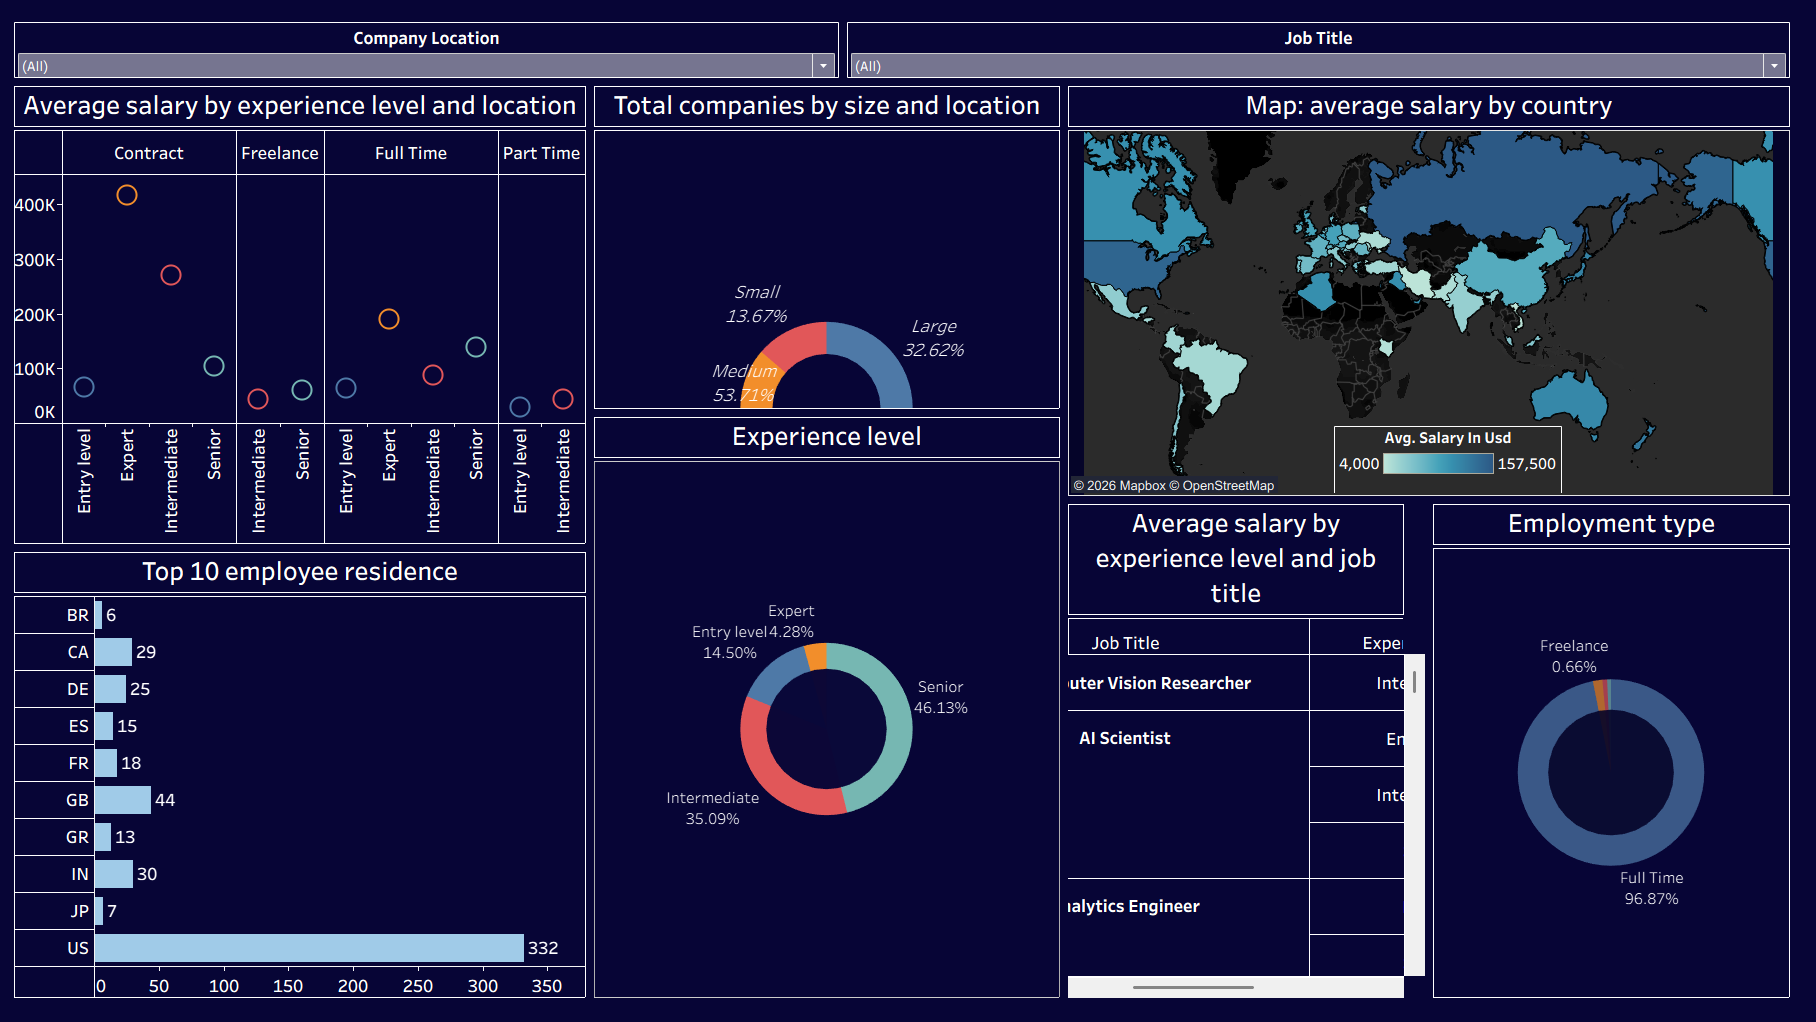

The dashboard page shown, as its layout file describes it:
{"tool":"tableau","page":{"name":"Dashboard 1","canvas":[2100,1200],"ordinal":0},"visuals":[{"type":"filter","title":"Average salary by experience level and job title","param":"[federated.0c3js8r0pqgrew11j128k1cgk7lb].[none:company_location:nk]","box":[8,8,973,77]},{"type":"filter","title":"Average salary by experience level and location","param":"[federated.0c3js8r0pqgrew11j128k1cgk7lb].[none:job_title:nk]","box":[981,8,1111,77]},{"type":"worksheet","title":"Average salary by experience level and location","mark":"Shape","rows":["salary_in_usd"],"cols":["employment_type","experience_level"],"box":[8,85,677,561]},{"type":"worksheet","title":"Total companies by size and location","mark":"Pie","rows":["Calculation_2296554395754557445","Calculation_2296554395754557445"],"box":[685,85,554,398]},{"type":"worksheet","title":"Map: average salary by country","mark":"Automatic","box":[1239,85,853,503]},{"type":"worksheet","title":"Experience level","mark":"Pie","rows":["Calculation_2296554395752697859","Calculation_2296554395752697859"],"box":[685,483,554,373]},{"type":"legend","title":"Map: average salary by country","param":"[federated.0c3js8r0pqgrew11j128k1cgk7lb].[avg:salary_in_usd:qk]","box":[1554,499,266,81]},{"type":"worksheet","title":"Average salary by experience level and job title","mark":"Square","rows":["job_title","experience_level"],"box":[1239,588,853,604]},{"type":"worksheet","title":"Top 10 employee residence","mark":"Automatic","rows":["employee_residence"],"cols":["employee_residence"],"box":[8,646,677,546]},{"type":"worksheet","title":"Employment type","mark":"Pie","rows":["Calculation_2296554395750612993","Calculation_2296554395750612993"],"box":[685,856,554,336]}]}

Visuals, with their boxes in screenshot pixels (x1, y1, x2, y2), scaled from the page's 2100x1200 canvas onto the 1816x1022 screenshot:
"Average salary by experience level and job title" filter: crop(7, 7, 848, 72)
"Average salary by experience level and location" filter: crop(848, 7, 1809, 72)
"Average salary by experience level and location" worksheet (Shape marks): crop(7, 72, 592, 550)
"Total companies by size and location" worksheet (Pie marks): crop(592, 72, 1071, 411)
"Map: average salary by country" worksheet: crop(1071, 72, 1809, 501)
"Experience level" worksheet (Pie marks): crop(592, 411, 1071, 729)
"Map: average salary by country" legend: crop(1344, 425, 1574, 494)
"Average salary by experience level and job title" worksheet (Square marks): crop(1071, 501, 1809, 1015)
"Top 10 employee residence" worksheet: crop(7, 550, 592, 1015)
"Employment type" worksheet (Pie marks): crop(592, 729, 1071, 1015)
